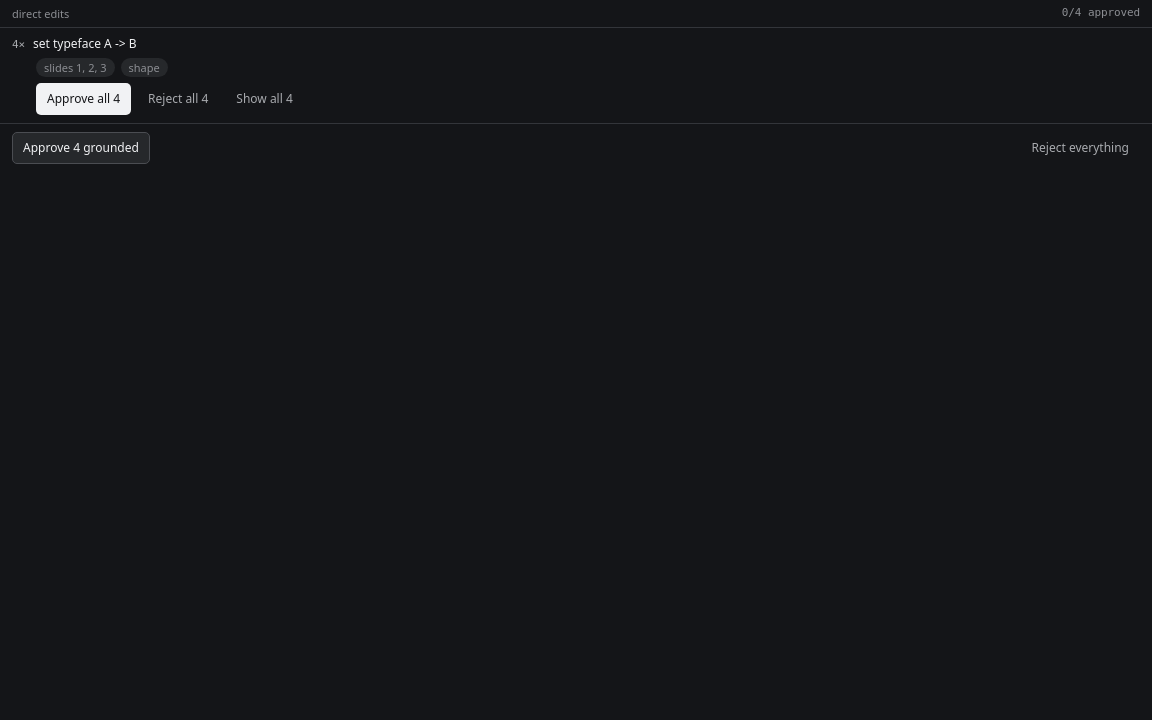
Test: identical changes are collapsed › still lets a reviewer open the list and check one
Click the button "Show all 4" at (265, 99), box [225, 83, 304, 115]
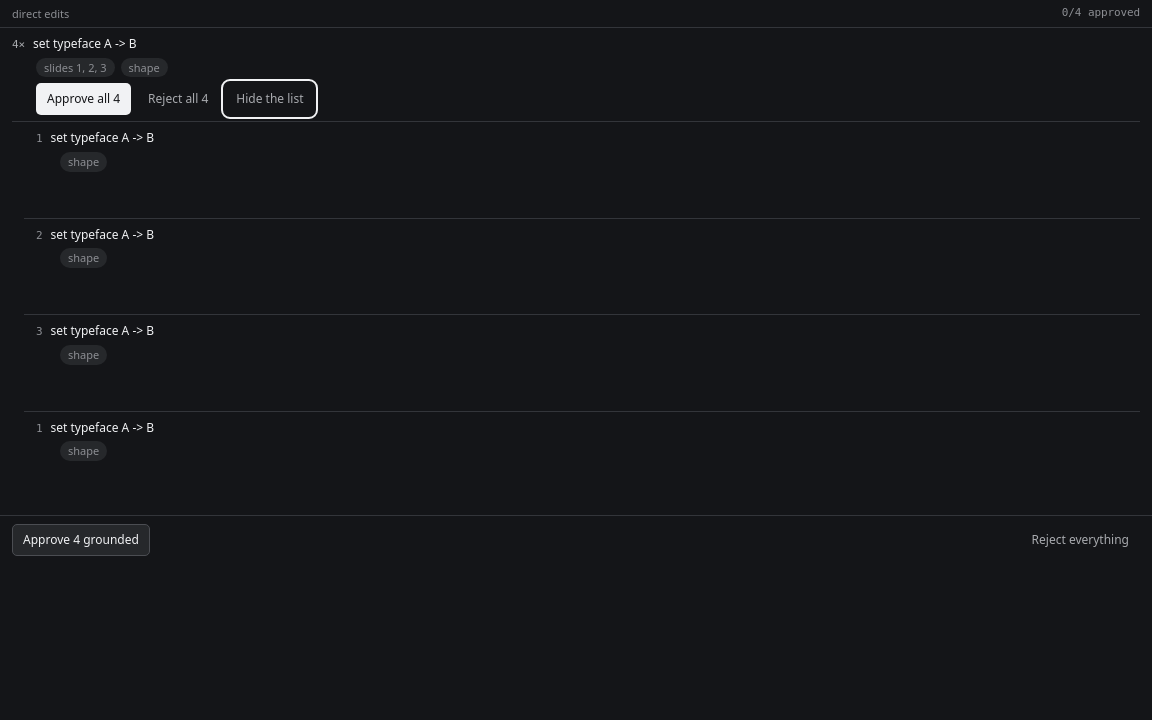
Now the text "set typeface A -> B" is shown 5 times, box [33, 35, 136, 52]; [50, 129, 154, 146]; [50, 226, 154, 243]; [50, 322, 154, 339]; [50, 419, 154, 436]
